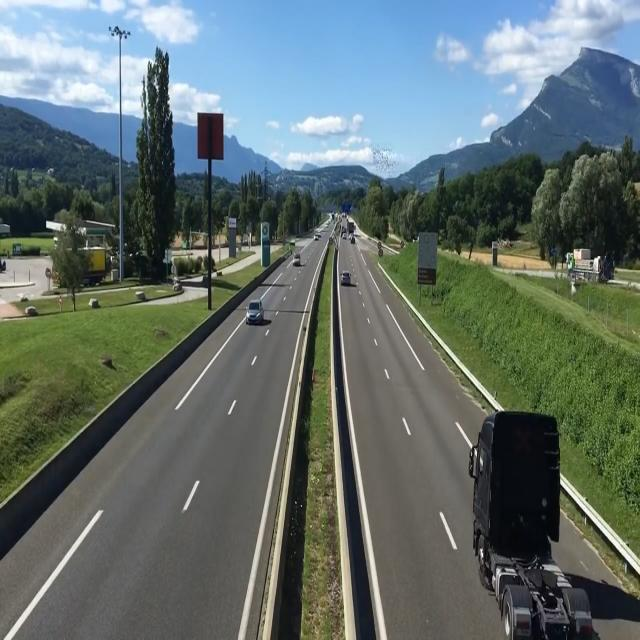car: (243, 295, 272, 329), (339, 269, 353, 295), (290, 249, 302, 272)
truck: (468, 401, 582, 640), (570, 250, 596, 288), (603, 250, 618, 288)
